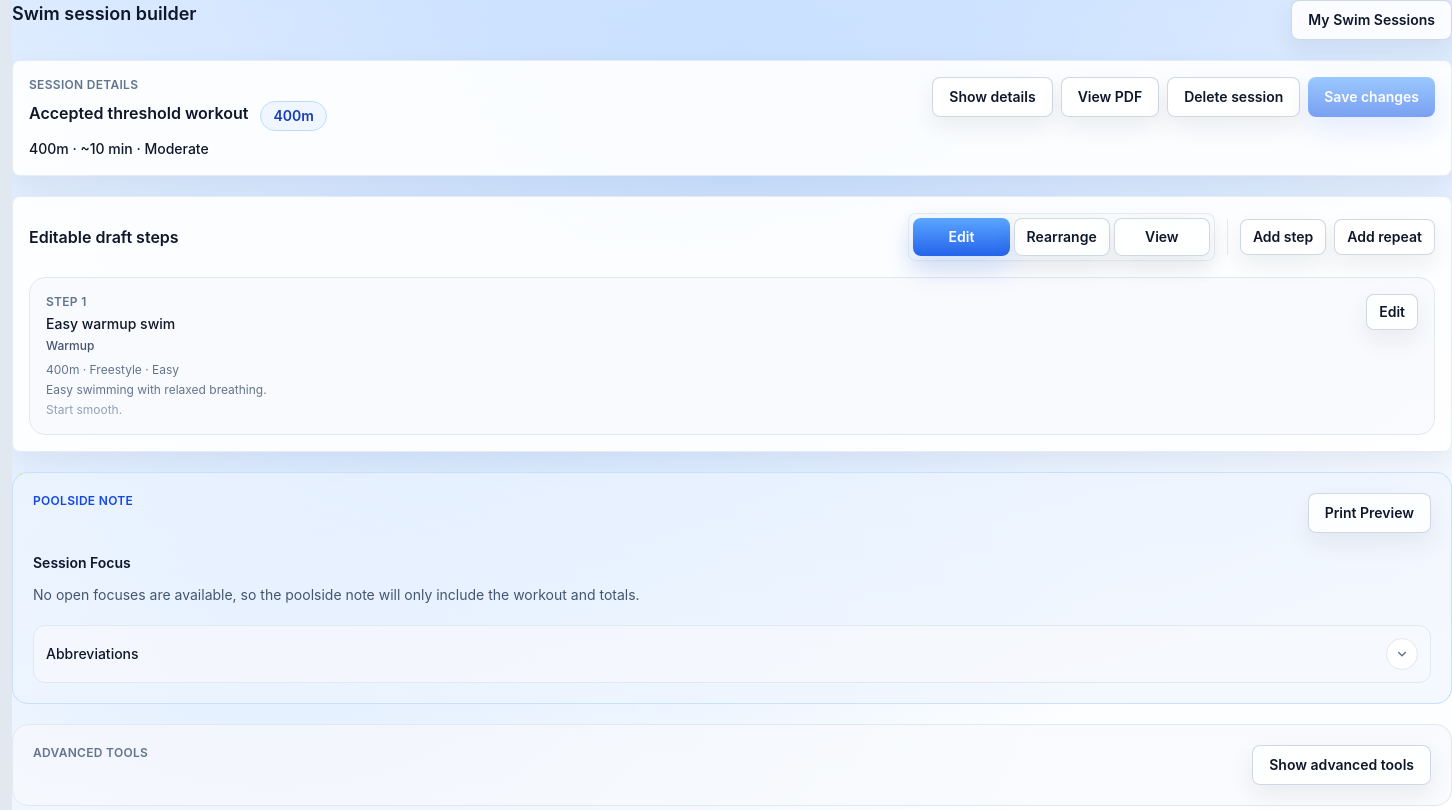
Scenario: WorkoutBuilderHub › keeps advanced support tools collapsed by default in the calm builder layout
Check: the text "Advanced export and support tools stay here when you need them." is not shown
Check: the text "Open, copy, or download here without saving." is not shown
Click the button with test id "workout-editor-support-tools-toggle".
click(1342, 765)  # box 1252,745 -> 1431,785
(page scrolled)
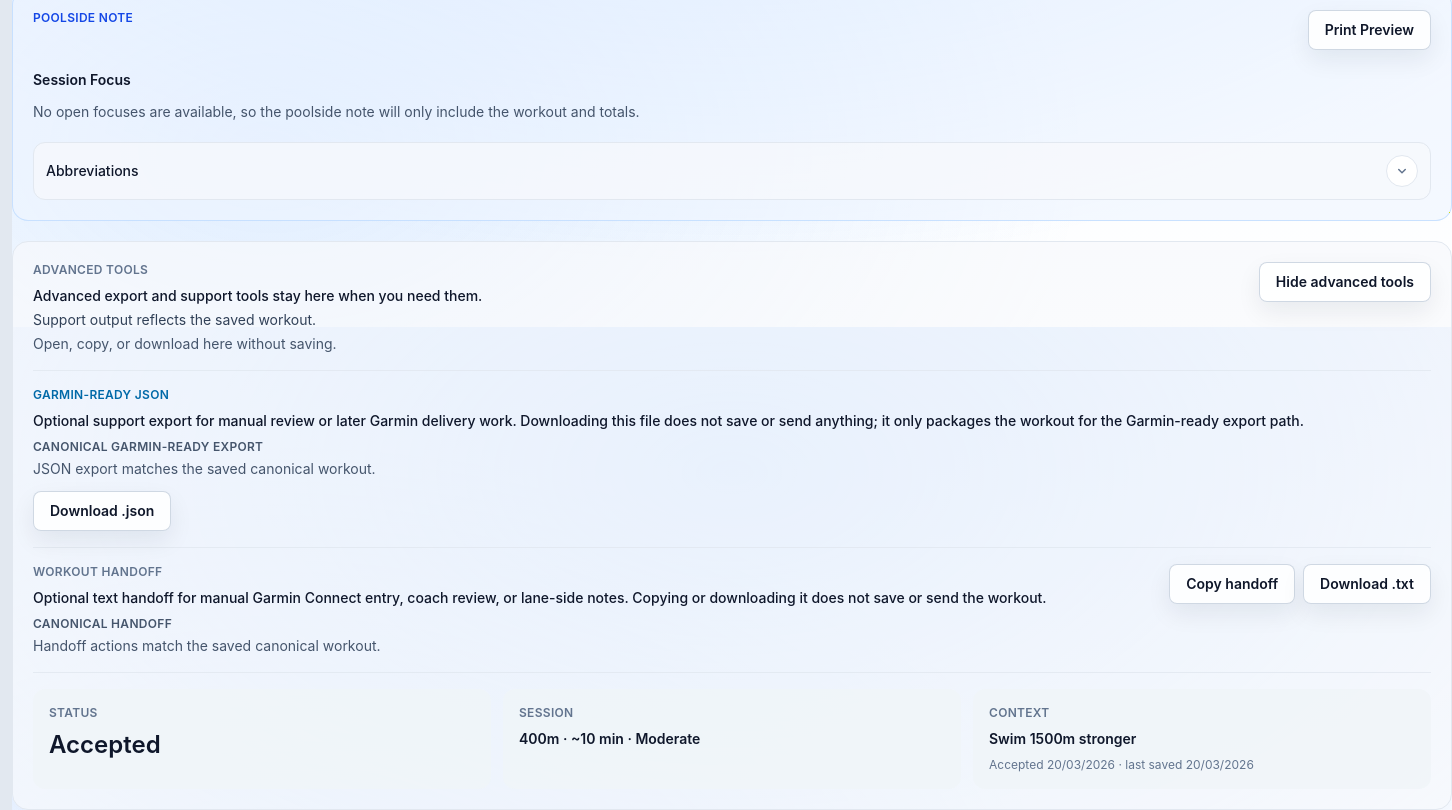
Check: the text "Advanced export and support tools stay here when you need them." is shown, box 33,286 -> 482,306
Check: the text "Open, copy, or download here without saving." is shown, box 33,335 -> 337,352
Check: the button with test id "workout-editor-garmin-export-download" is shown, box 33,491 -> 171,531
